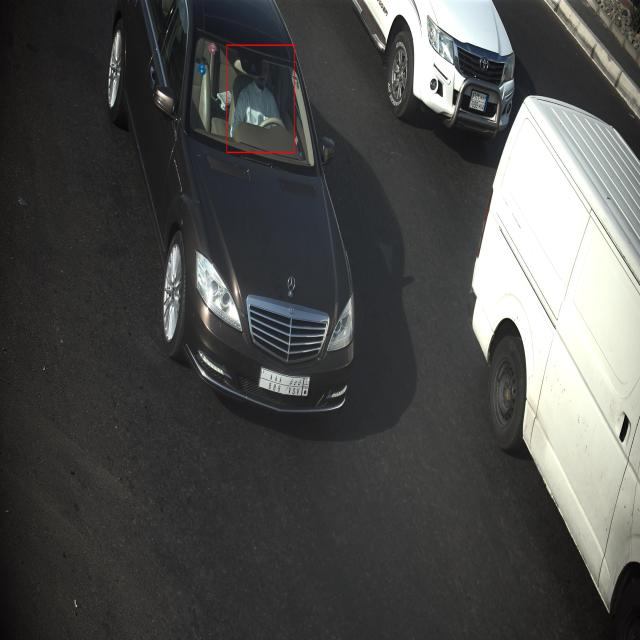windshield: (186, 26, 322, 178)
